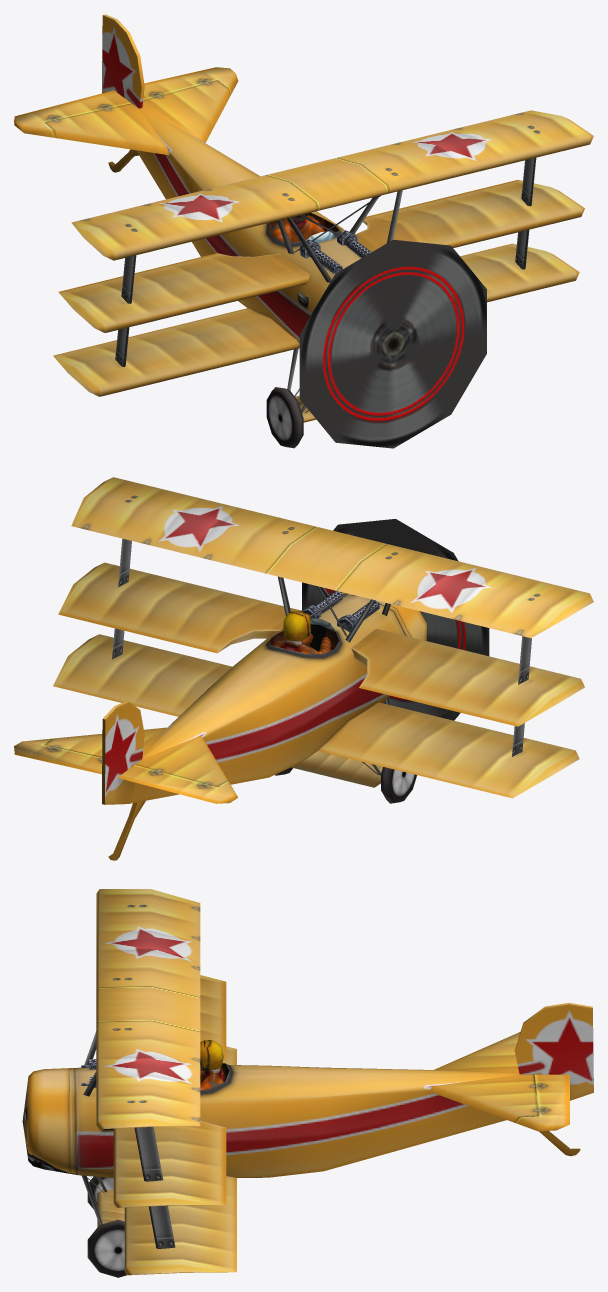
File: pl_biplane.fbx
3 views of the same model, one above another, from view 1: azimuth 30°, elevation 25°; view 2: azimuth 150°, elevation 25°; view 3: azimuth 270°, elevation 25° (orthographic).
Visible parts, largest first — view 1: pl_biplane, baron_propellers; view 2: pl_biplane, baron_propellers; view 3: pl_biplane.
Boxes of the visible parts, left/top/right/bottom form: pl_biplane: left=14, top=14, right=593, bottom=448; baron_propellers: left=299, top=239, right=486, bottom=448; pl_biplane: left=14, top=477, right=593, bottom=860; baron_propellers: left=302, top=519, right=489, bottom=720; pl_biplane: left=22, top=889, right=593, bottom=1277.
Bounding box in the file's own units: 523 × 252 × 537.
